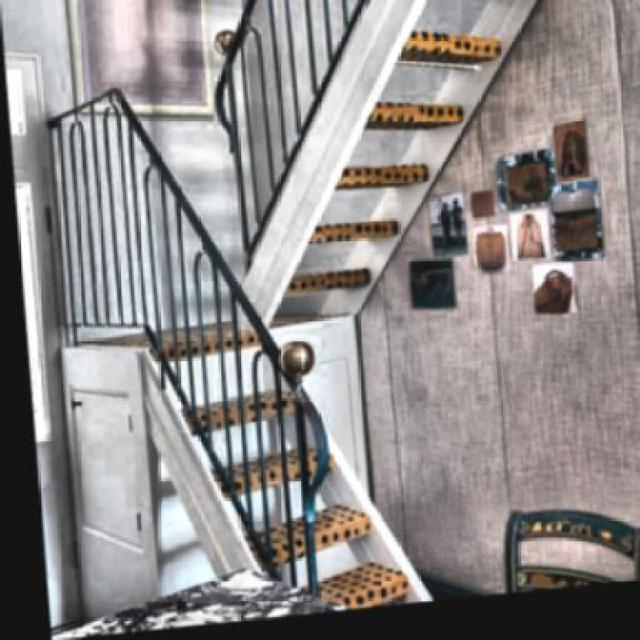stair: (121, 282, 408, 620)
